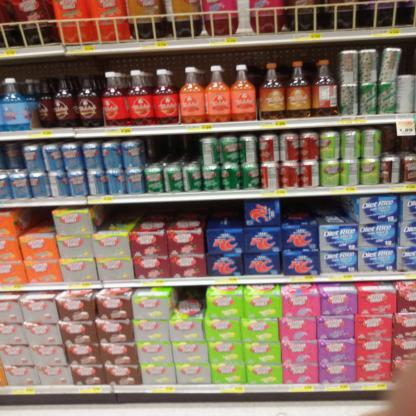Void: (93, 206, 240, 223), (284, 200, 354, 220), (148, 141, 203, 162), (178, 290, 206, 315), (383, 131, 413, 152), (23, 212, 52, 230)
